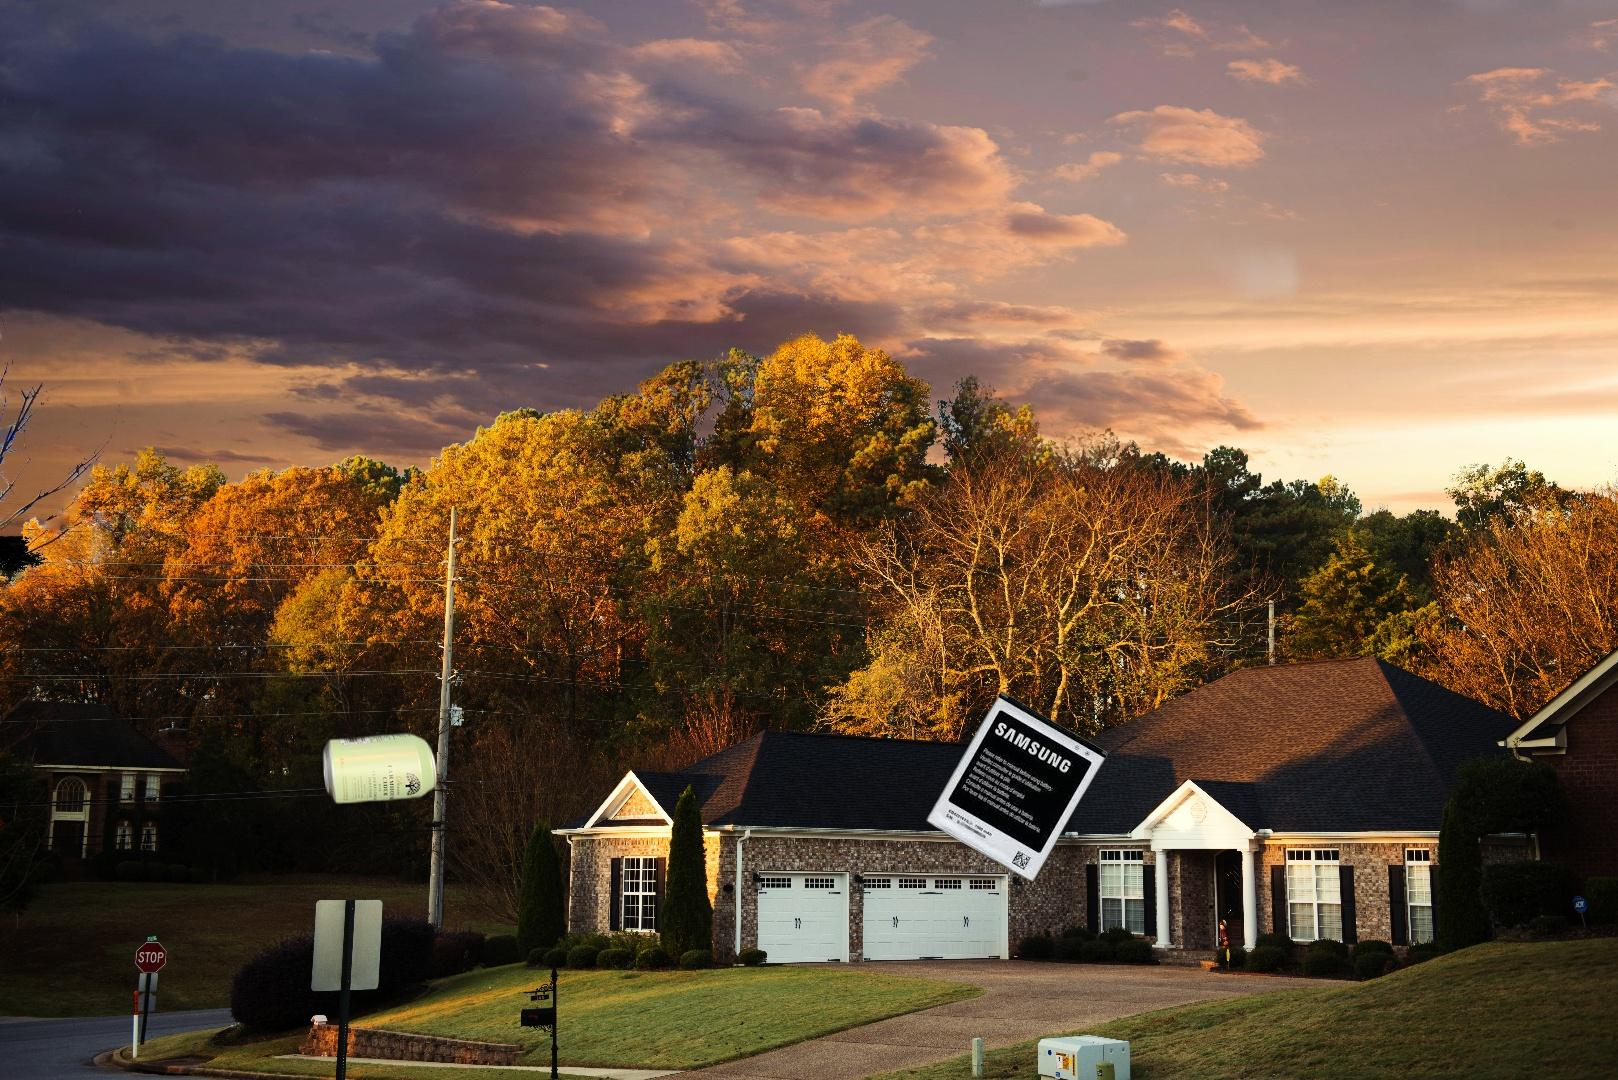battery: (923, 689, 1111, 884)
metal-cans: (304, 195, 442, 810)
